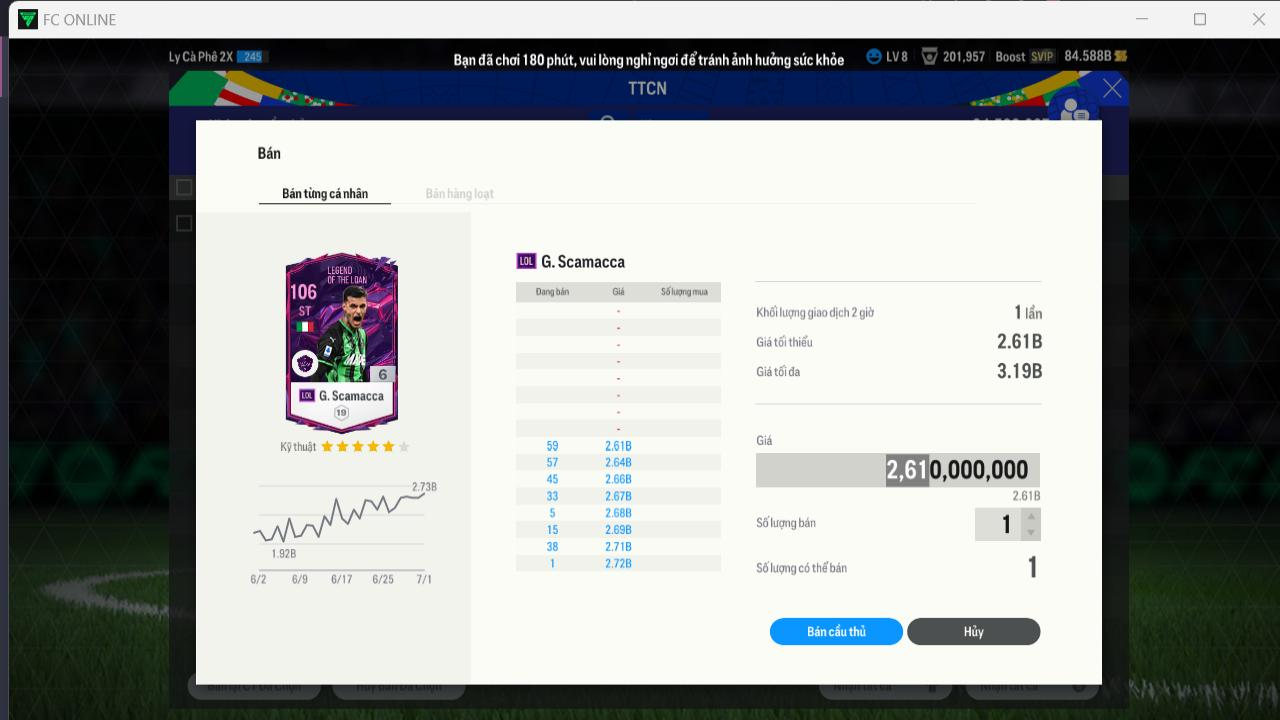buttonban: (764, 614, 902, 650)
buttonhuy: (916, 614, 1038, 646)
max: (974, 360, 1058, 383)
min: (994, 328, 1048, 353)
